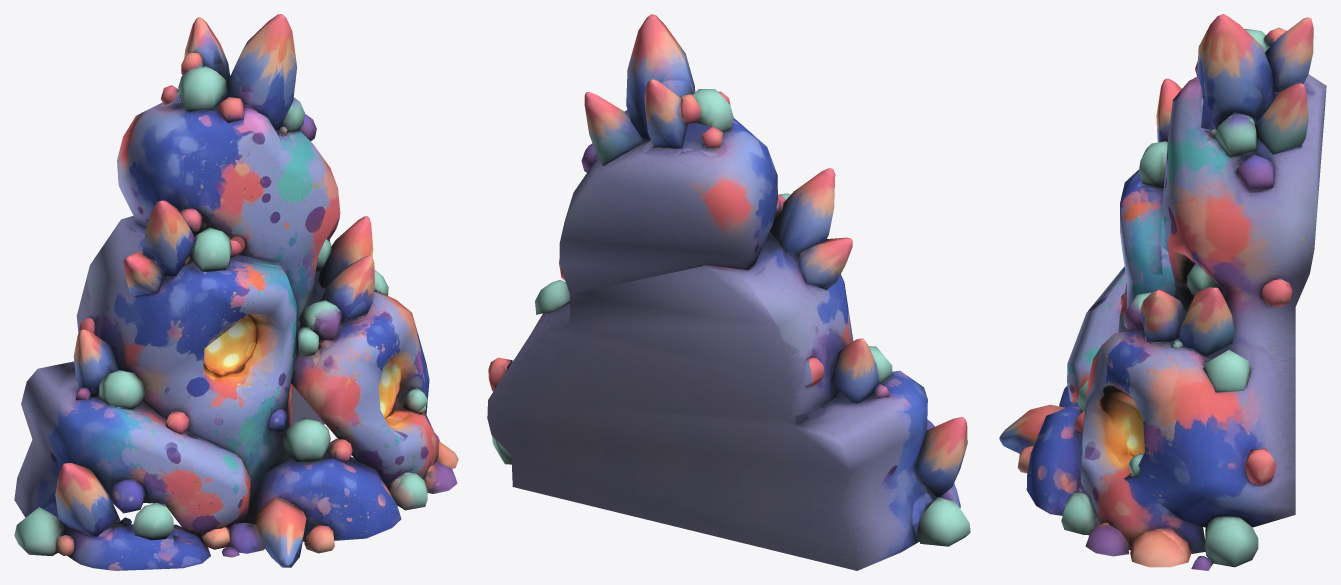
Rendered from alien_rock_01.glb.
The picture shows the model from 3 angles, left to right: view 1: azimuth 30°, elevation 25°; view 2: azimuth 150°, elevation 25°; view 3: azimuth 270°, elevation 25°; orthographic projection. The views are drawn at different scales.
Parts seen in each view (by area): view 1: tripo_node_aea0a459-4faf-40e8-9bae-ede5569e6719; view 2: tripo_node_aea0a459-4faf-40e8-9bae-ede5569e6719; view 3: tripo_node_aea0a459-4faf-40e8-9bae-ede5569e6719.
Boxes of the visible parts, x1,y1,x2,y2 form: tripo_node_aea0a459-4faf-40e8-9bae-ede5569e6719: (14,14,458,570); tripo_node_aea0a459-4faf-40e8-9bae-ede5569e6719: (487,14,970,570); tripo_node_aea0a459-4faf-40e8-9bae-ede5569e6719: (999,14,1326,570).
Bounding box in the file's own units: 0.9868 × 0.9995 × 0.6167.
Materials: 1 (1 with a texture image).
